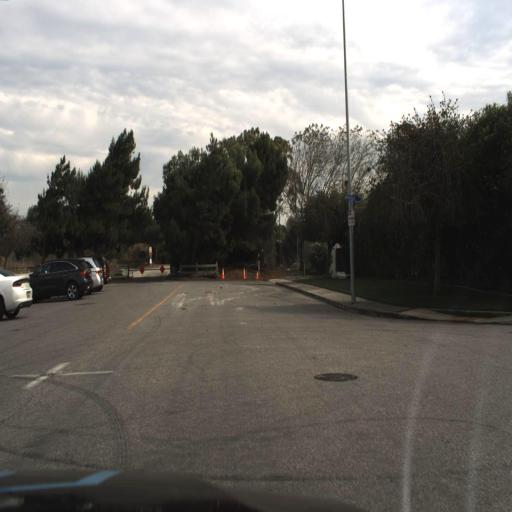car: (32, 256, 92, 302), (0, 263, 35, 324), (85, 253, 104, 292), (85, 256, 105, 292)
